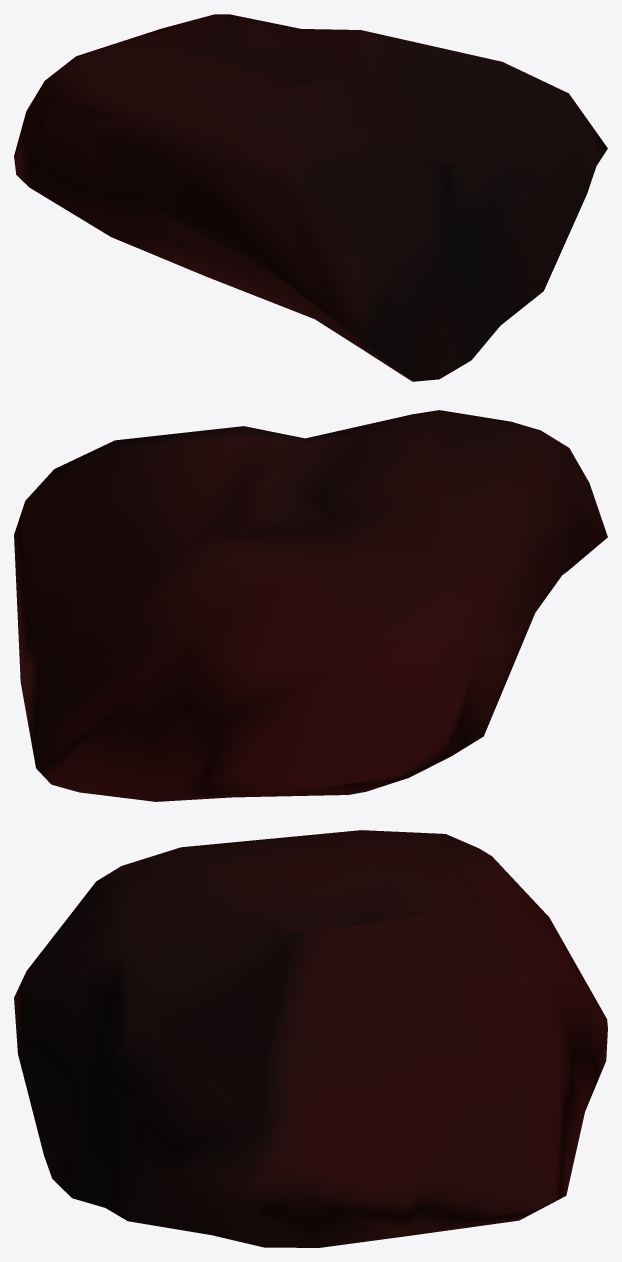
The model's file is geology-pebbles-obsidian_v4.fbx.
3 views of the same model, one above another, from view 1: azimuth 30°, elevation 25°; view 2: azimuth 150°, elevation 25°; view 3: azimuth 270°, elevation 25° (orthographic). The views are drawn at different scales.
Visible parts, largest first — view 1: Obsidian_v4; view 2: Obsidian_v4; view 3: Obsidian_v4.
Part boxes in pixels (x1=…): Obsidian_v4: x1=14, y1=14, x2=607, y2=381; Obsidian_v4: x1=14, y1=410, x2=607, y2=801; Obsidian_v4: x1=14, y1=830, x2=607, y2=1247.
Bounding box in the file's own units: 10.01 × 5.13 × 9.72.
